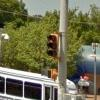Bus: (3, 59, 64, 100)
